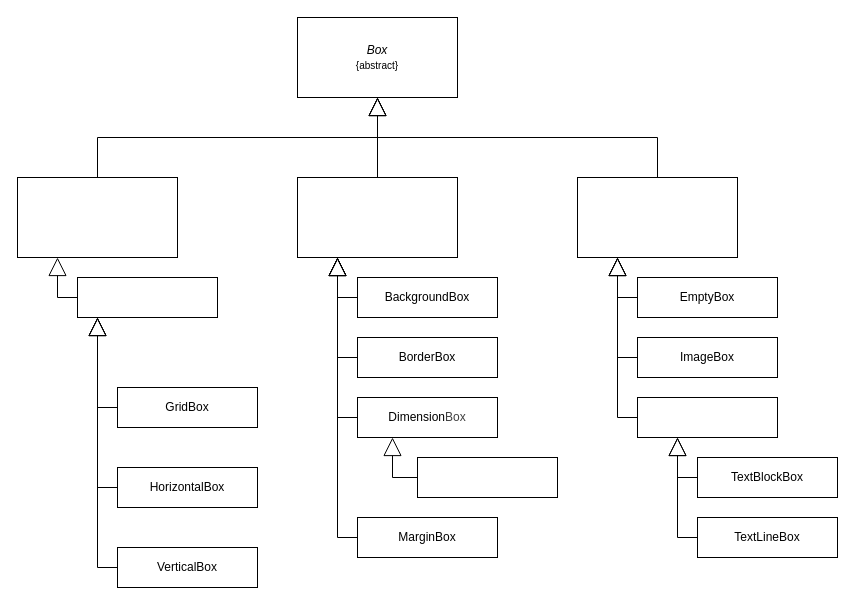
Some shapes in this 855 by 605 pixel diagram are drawn without their labels. Each missing label, with the centre of its shape:
"AlignBox" belongs at (x=487, y=477).
"ChildBox {abstract}" belongs at (x=377, y=217).
"ChildsBox {abstract}" belongs at (x=97, y=217).
"LeafBox {abstract}" belongs at (x=657, y=217).
"PaddingBox {abstract}" belongs at (x=147, y=297).
"TextBox {abstract}" belongs at (x=707, y=417).
